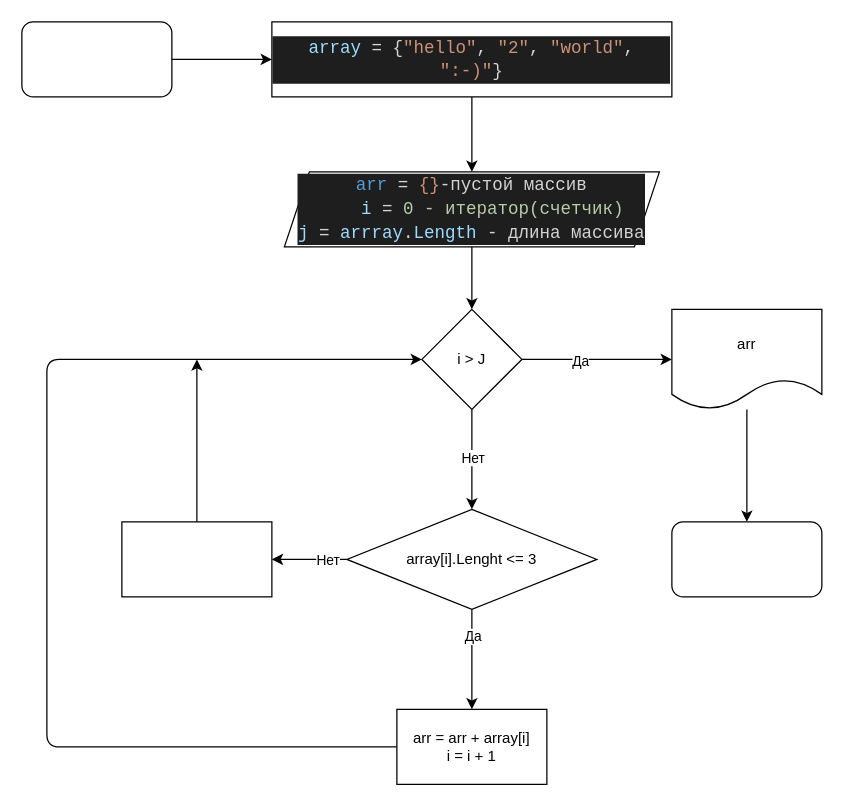
This 844x806 diagram has some shape labels left out. Each missing label, with the centre of its shape:
"i = i + 1" belongs at (x=196, y=559).
"Конец" belongs at (x=746, y=559).
"Начало" belongs at (x=96, y=59).
